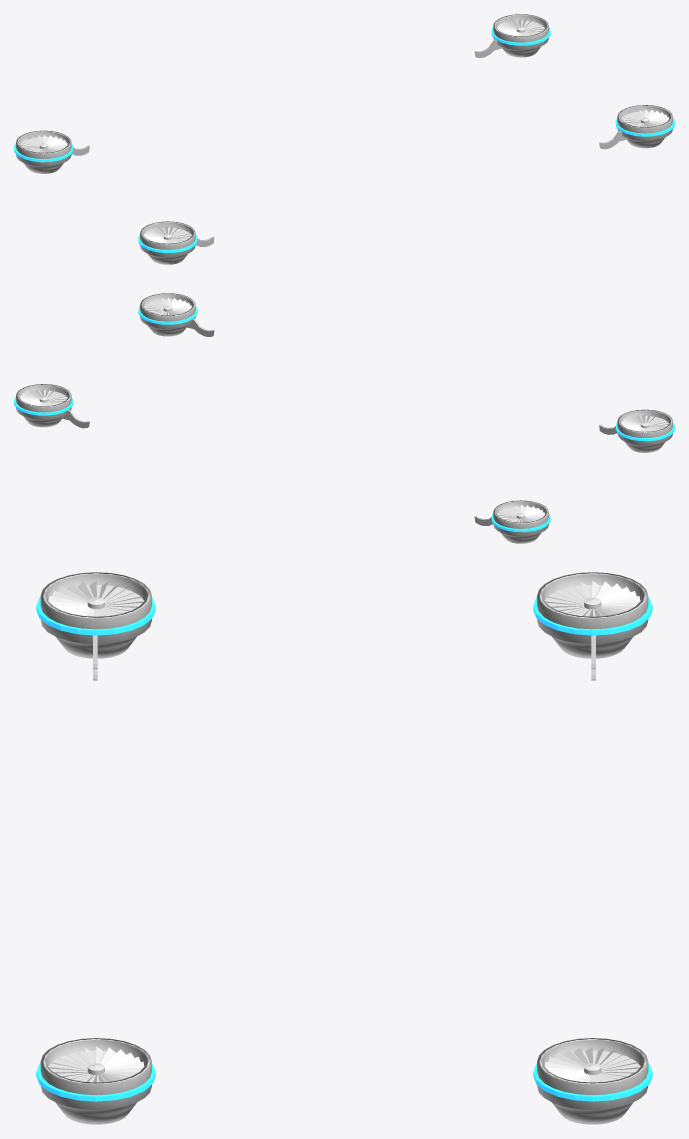
File: fan.fbx
The picture shows the model from 3 angles, top to bottom: view 1: azimuth 30°, elevation 25°; view 2: azimuth 150°, elevation 25°; view 3: azimuth 270°, elevation 25°; orthographic projection. The views are drawn at different scales.
Parts seen in each view (by area): view 1: 3DGeom-33; view 2: 3DGeom-33; view 3: 3DGeom-33.
Boxes of the visible parts, x1,y1,x2,y2 form: 3DGeom-33: (14, 14, 674, 264); 3DGeom-33: (14, 293, 674, 543); 3DGeom-33: (36, 572, 652, 1124).
Bounding box in the file's own units: 10.97 × 0.489 × 5.53.
Materials: 4 (1 with a texture image).
